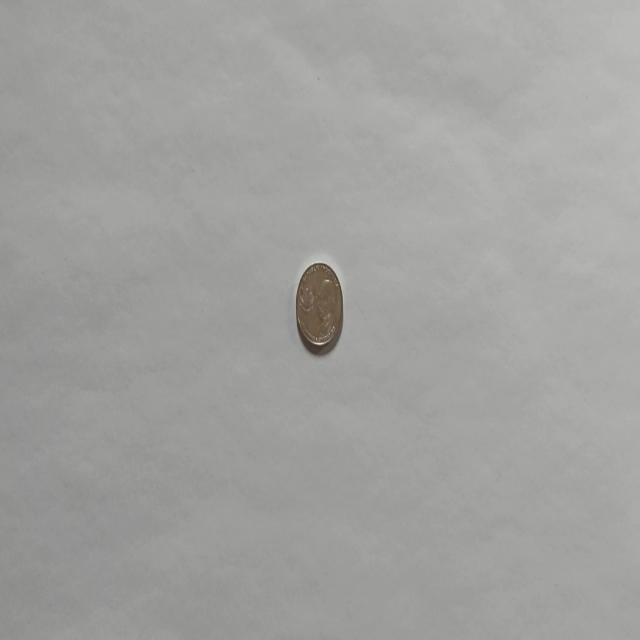lima ratus rupiah: (294, 259, 344, 353)
